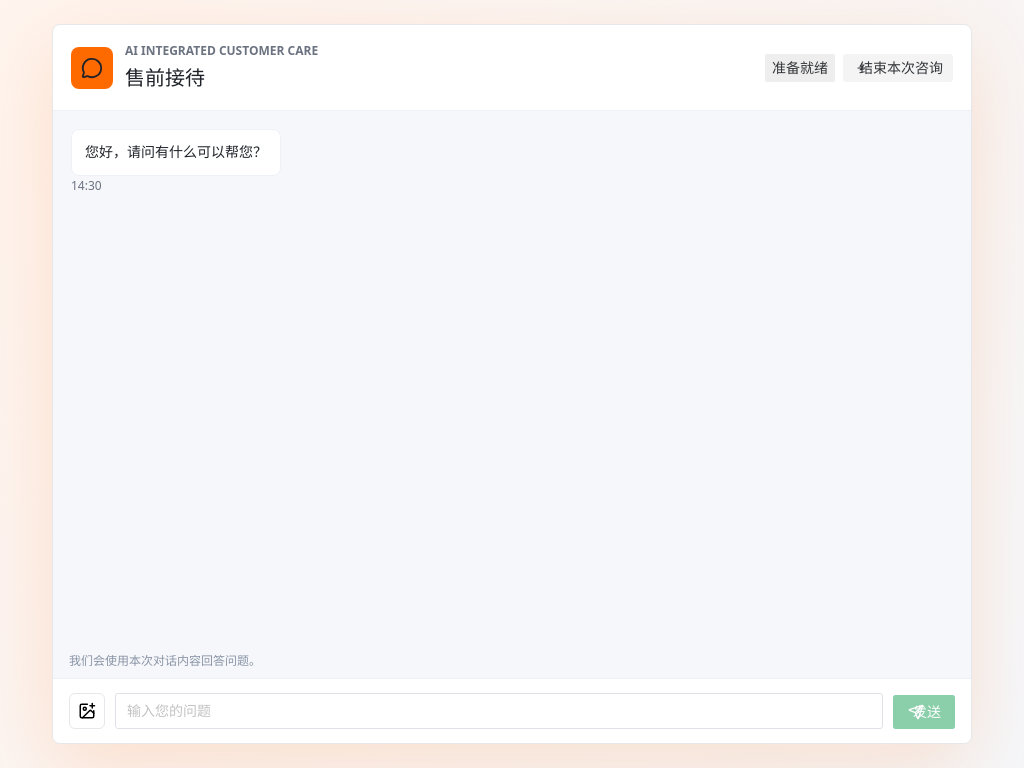
Test: PublicAICCChatPage › renders timestamps for greeting and newly exchanged messages
Type "报价多少" into the text box with placeholder "输入您的问题". click: (499, 711)
box: [127,693,871,729]
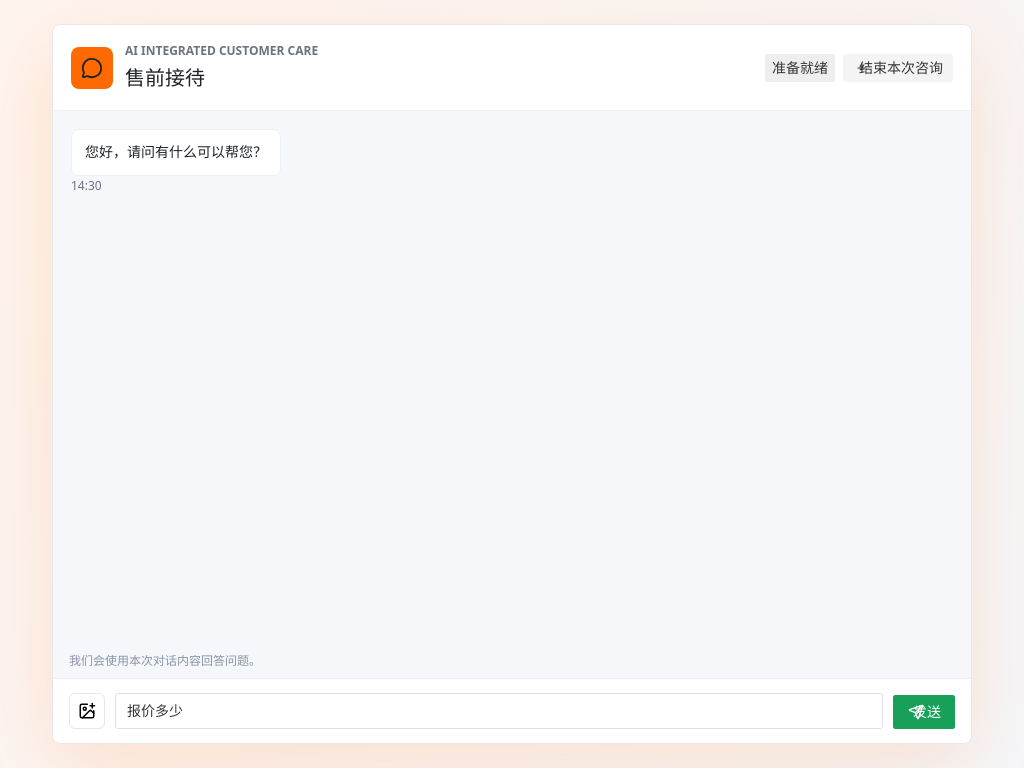
Submit the form with class "composer", box [53,678,971,743]
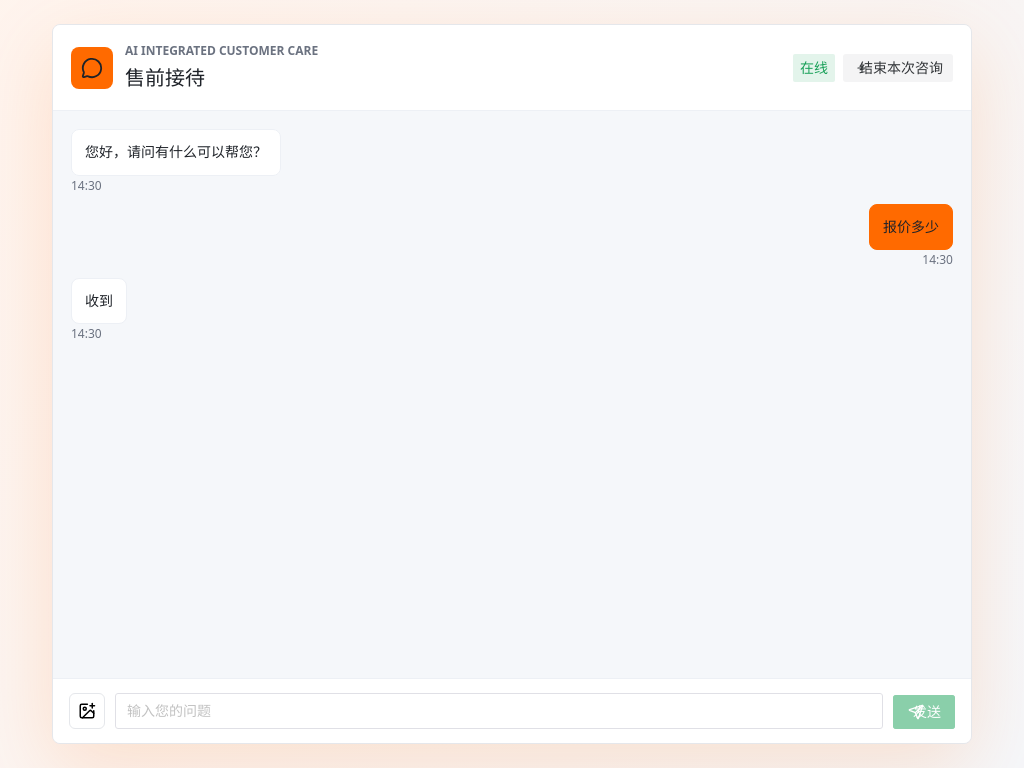
expect the elements with class "message-time" read "14:30", "14:30", "14:30", in this order: met, box [71,180,102,192]; [922,254,953,266]; [71,328,102,340]
